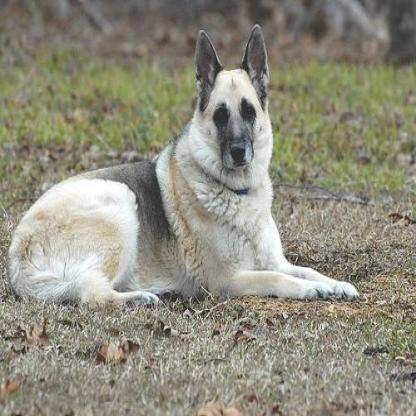German_shepherd: (7, 22, 358, 311)
